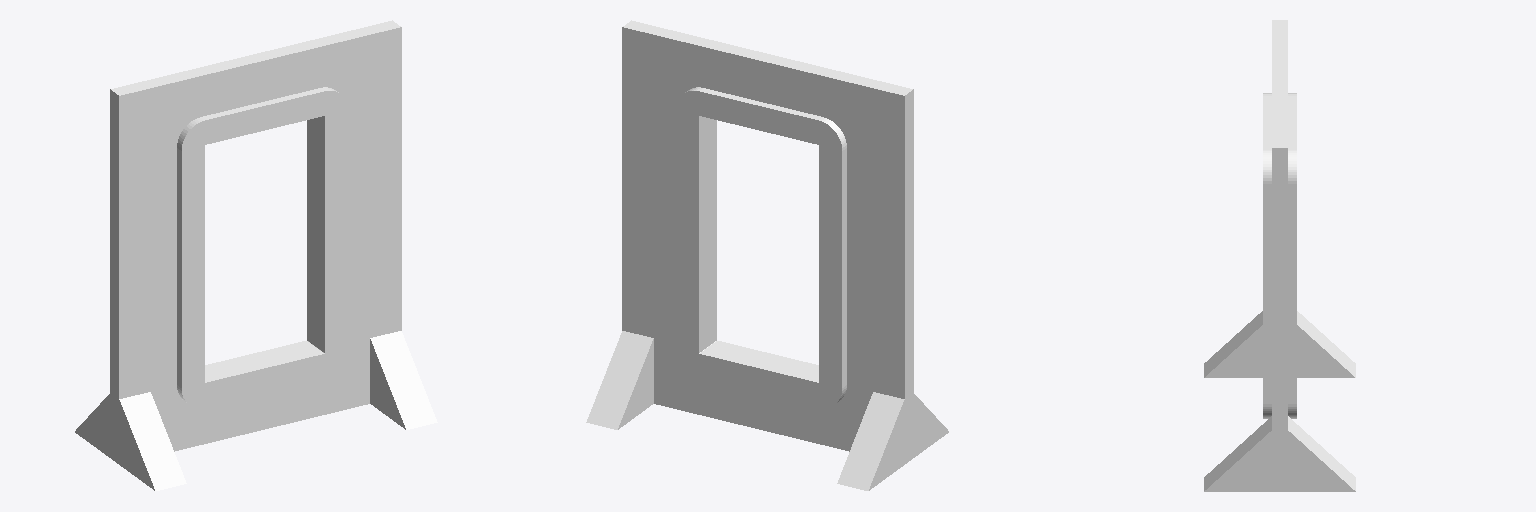
The robot description file, URDF, robot "navy_door":
<?xml version="0.0" ?>
<robot name="navy_door">
  <link name="door">
  <contact>
      <lateral_friction value="1"/>
  </contact>
    <inertial>
      <origin rpy="0 0 0" xyz="0 0 0"/>
       <mass value="500."/>
       <inertia ixx="0" ixy="0" ixz="0" iyy="0" iyz="0" izz="0"/>
    </inertial>
    <visual>
      <origin rpy="0 0 0" xyz="0 0 0"/>
      <geometry>
        <mesh filename="navy_door_765x1450.stl" scale="1 1 1"/>
      </geometry>
       <material name="white">
        <color rgba="1 1 1 1"/>
      </material>
    </visual>
    <collision>
      <origin rpy="0 0 0" xyz="0 0 0.2"/>
      <geometry>
         <box size="1.4 0.1 0.4"/>
      </geometry>
    </collision>
  </link>
</robot>

--- Render facts (derived) ---
The picture shows the robot from 3 angles, left to right: view 1: azimuth 30°, elevation 25°; view 2: azimuth 150°, elevation 25°; view 3: azimuth 270°, elevation 25°; orthographic projection.
Model navy_door with 1 links and 0 joints (none), rooted at door, posed every joint at zero.
Links seen in each view (by area): view 1: door; view 2: door; view 3: door.
Link boxes in pixels (x1,y1,x2,y2): door: (75,20,437,490); door: (586,20,948,490); door: (1204,20,1355,491).
Bounding box of the posed robot: 1.8 × 0.9 × 2.25 m (x, y, z).
1 mesh visuals loaded from 1 distinct referenced files (1 binary STL).